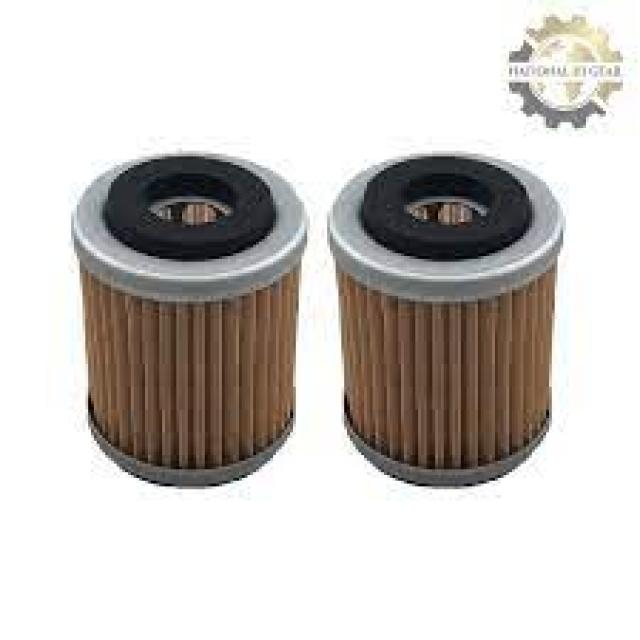oil_filter: (322, 145, 574, 491), (68, 145, 310, 495)
